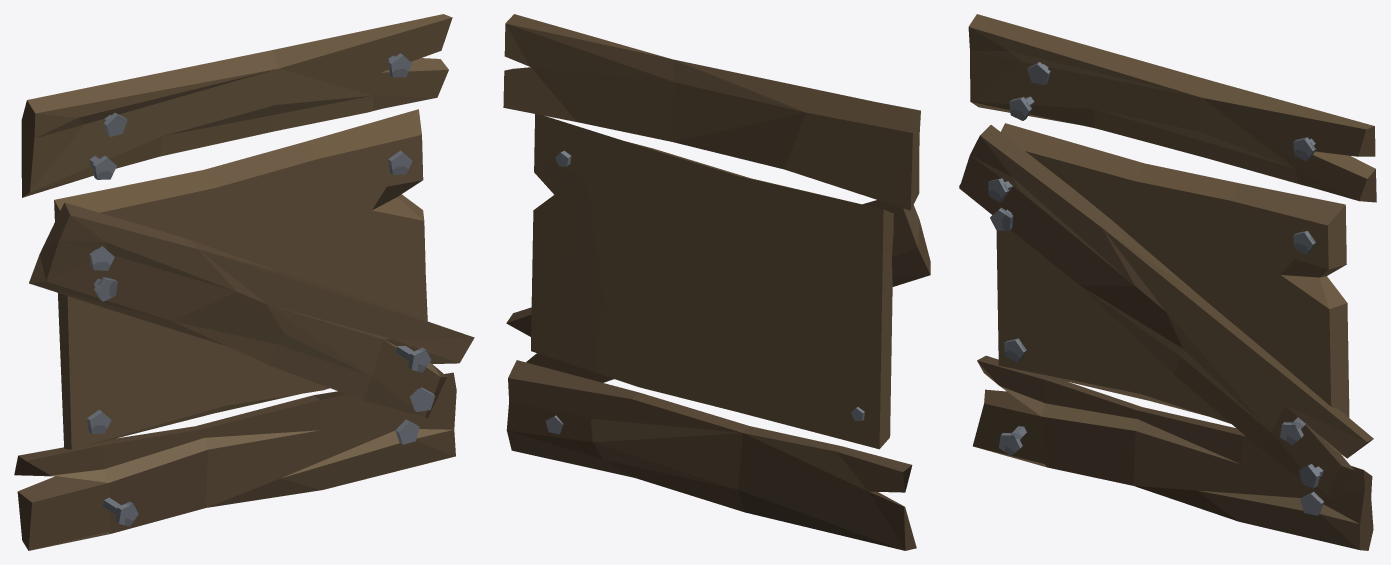
The model's file is crypt_boards.gltf.
3 views of the same model, side by side, from view 1: azimuth 30°, elevation 25°; view 2: azimuth 150°, elevation 25°; view 3: azimuth 330°, elevation 25° (orthographic). The views are drawn at different scales.
Visible parts, largest first — view 1: crypt_boards; view 2: crypt_boards; view 3: crypt_boards.
Boxes of the visible parts, x1=… form: crypt_boards: x1=14, y1=14, x2=474, y2=550; crypt_boards: x1=503, y1=14, x2=930, y2=550; crypt_boards: x1=959, y1=14, x2=1376, y2=550.
Bounding box in the file's own units: 1.19 × 1.18 × 0.2122.
1 material, 1 textured.
